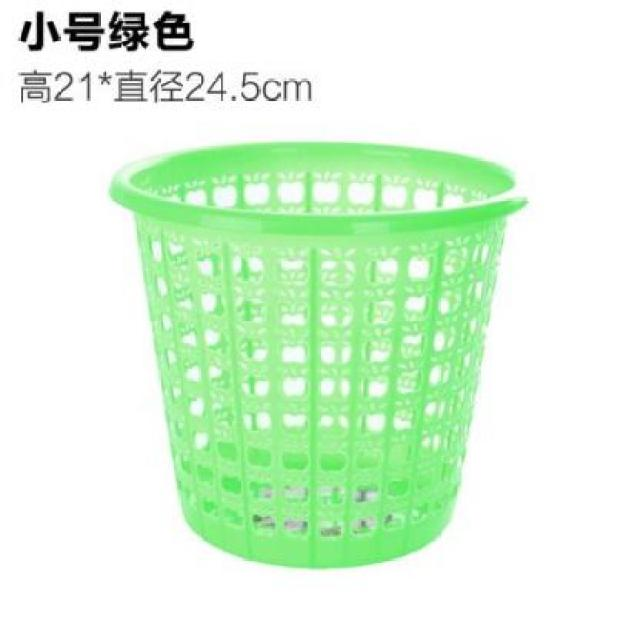dustbin: (102, 134, 536, 573)
